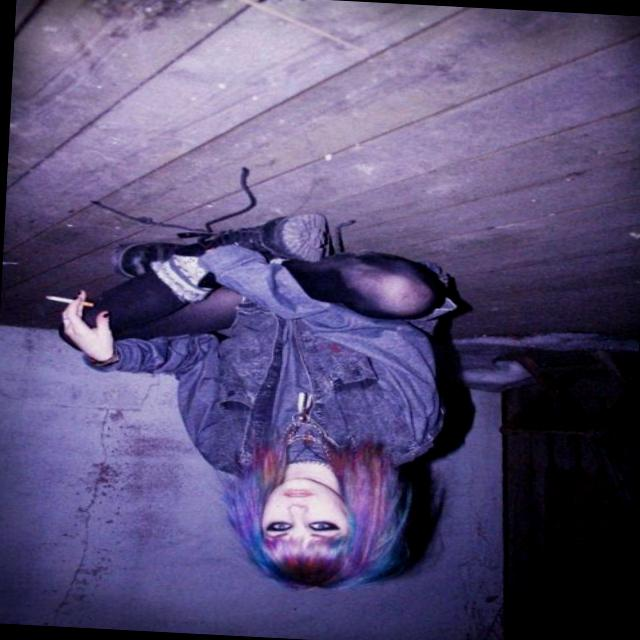smoke: (30, 292, 100, 312)
